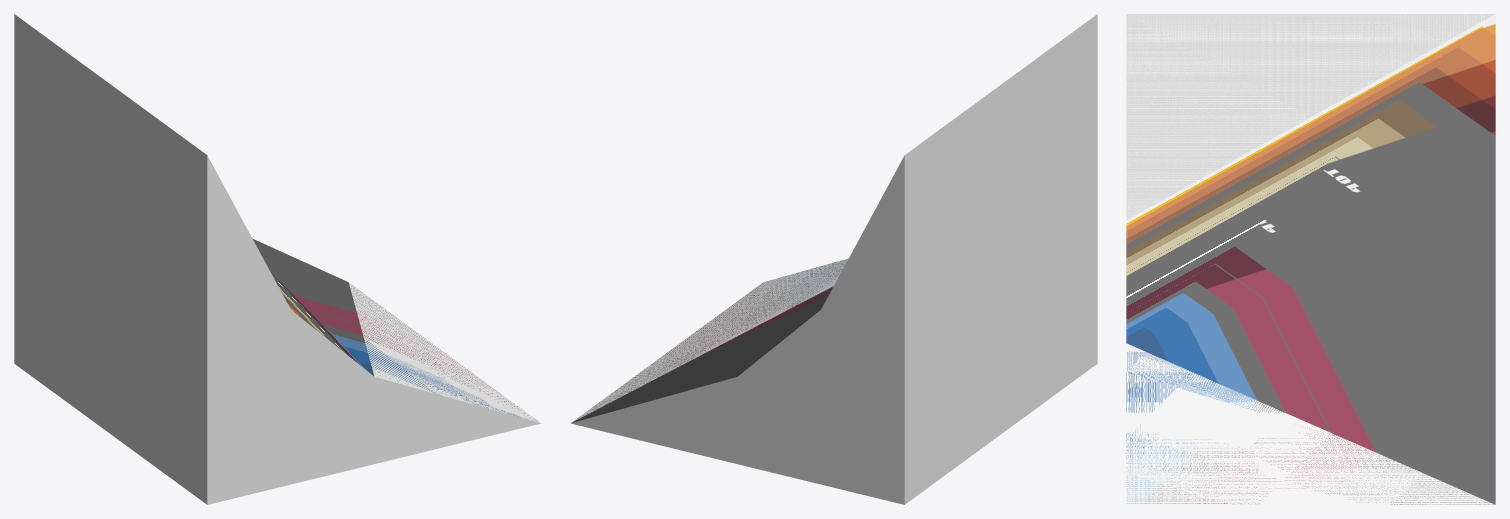
The model's file is r4c4_border_white.gltf.
3 renders of one model, left to right at view 1: azimuth 30°, elevation 25°; view 2: azimuth 150°, elevation 25°; view 3: azimuth 270°, elevation 25°, orthographic. The views are drawn at different scales.
Parts seen in each view (by area): view 1: r4c4_border_white; view 2: r4c4_border_white; view 3: r4c4_border_white.
Boxes of the visible parts, x1=… form: r4c4_border_white: x1=14, y1=14, x2=541, y2=504; r4c4_border_white: x1=570, y1=14, x2=1097, y2=504; r4c4_border_white: x1=1126, y1=14, x2=1495, y2=504.
Bounding box in the file's own units: 2.1 × 2.1 × 2.1.
Materials: 1 (1 with a texture image).
